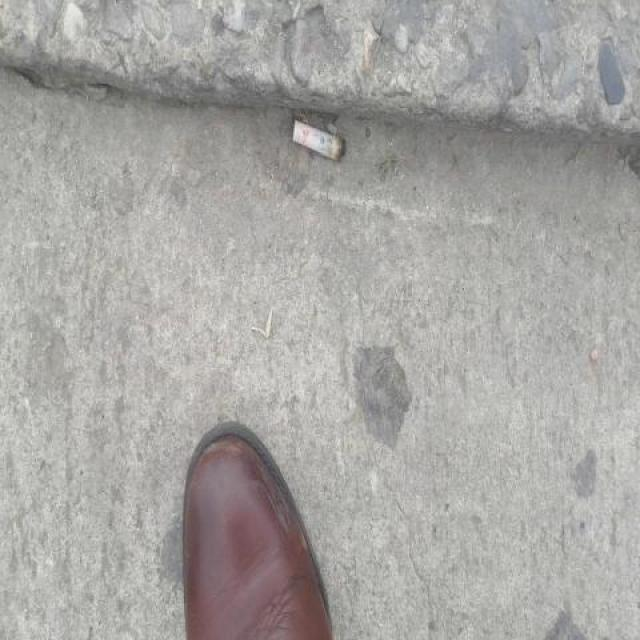non-organic waste: (288, 115, 352, 169)
